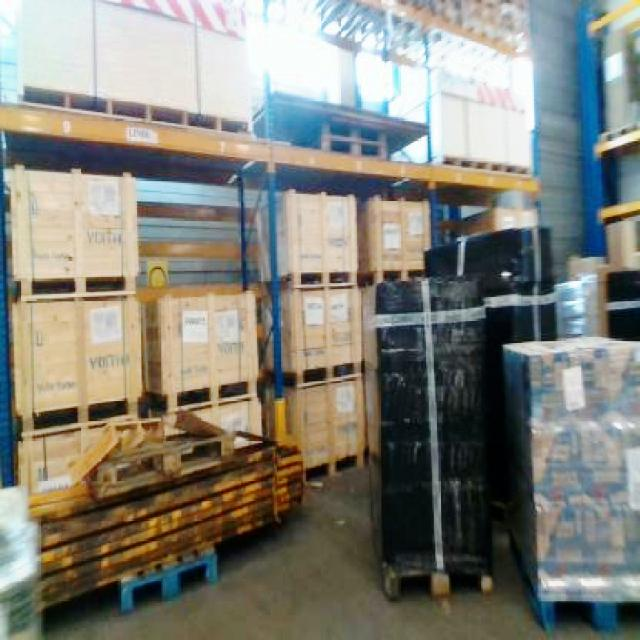ground: (0, 457, 638, 638)
pallet: (0, 91, 542, 620), (6, 163, 431, 491), (25, 409, 306, 614), (8, 162, 146, 491), (368, 272, 494, 603), (500, 334, 638, 634), (254, 188, 366, 477), (137, 282, 262, 440), (0, 483, 43, 638)
